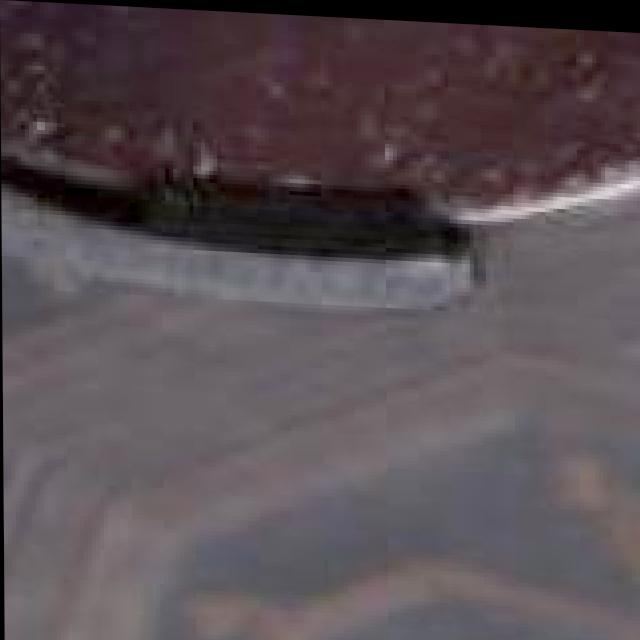battery: (0, 0, 640, 298)
